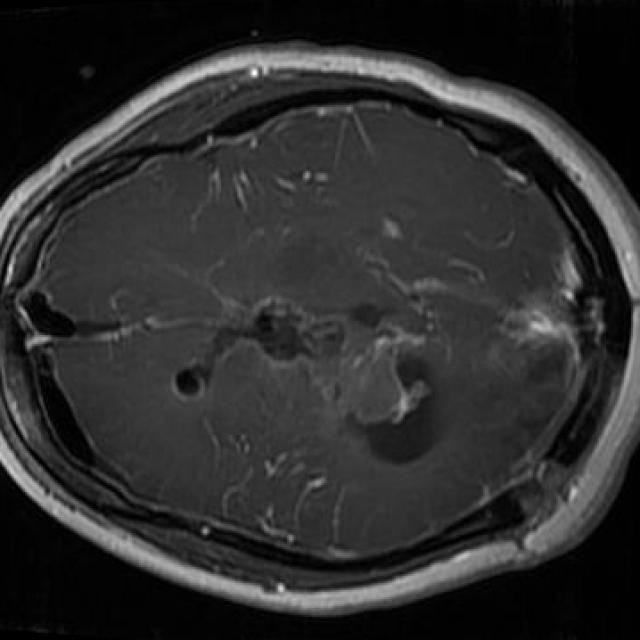glioma: (171, 296, 440, 465)
